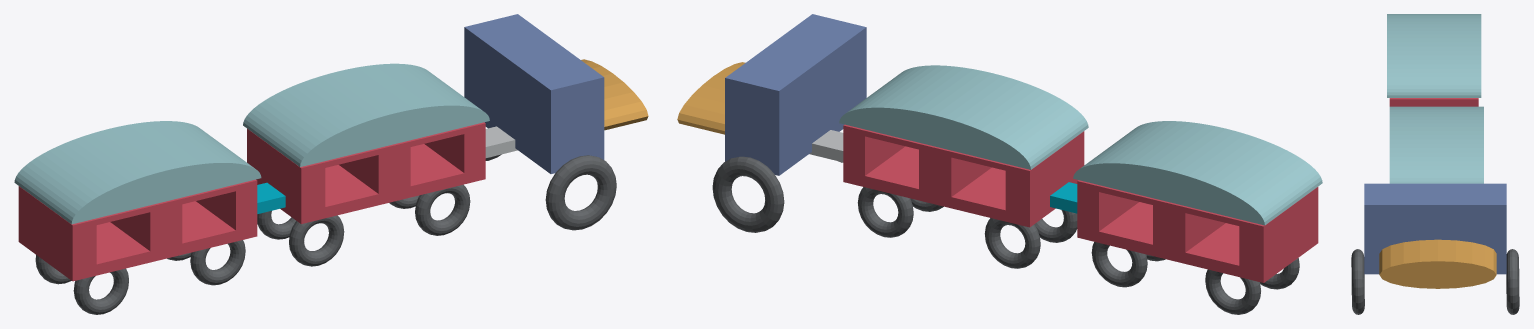
File: Tremendous Wluff.glb
The picture shows the model from 3 angles, left to right: view 1: azimuth 30°, elevation 25°; view 2: azimuth 150°, elevation 25°; view 3: azimuth 270°, elevation 25°; orthographic projection. The views are drawn at different scales.
Parts seen in each view (by area): view 1: Mesh_Mesh_head_geo.001_lambert2SG.001; view 2: Mesh_Mesh_head_geo.001_lambert2SG.001; view 3: Mesh_Mesh_head_geo.001_lambert2SG.001.
Part boxes in pixels (x1,y1,x2,y2): Mesh_Mesh_head_geo.001_lambert2SG.001: [14, 14, 648, 314]; Mesh_Mesh_head_geo.001_lambert2SG.001: [677, 14, 1322, 314]; Mesh_Mesh_head_geo.001_lambert2SG.001: [1351, 14, 1519, 314].
Bounding box in the file's own units: 214 × 51 × 66.
